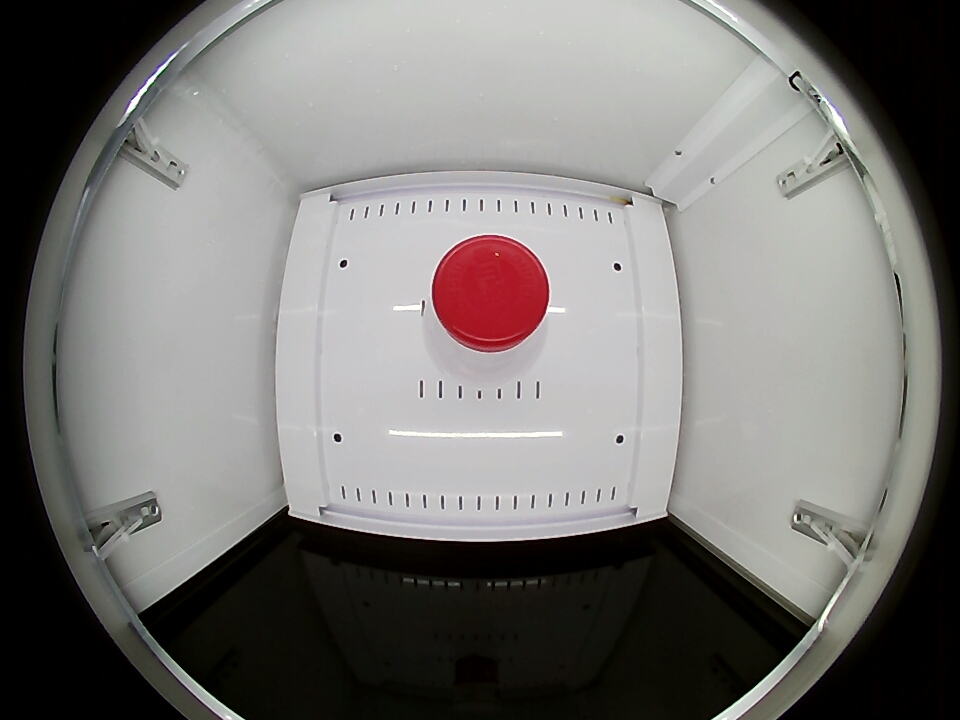nongfushanquan: (425, 235, 551, 374)
